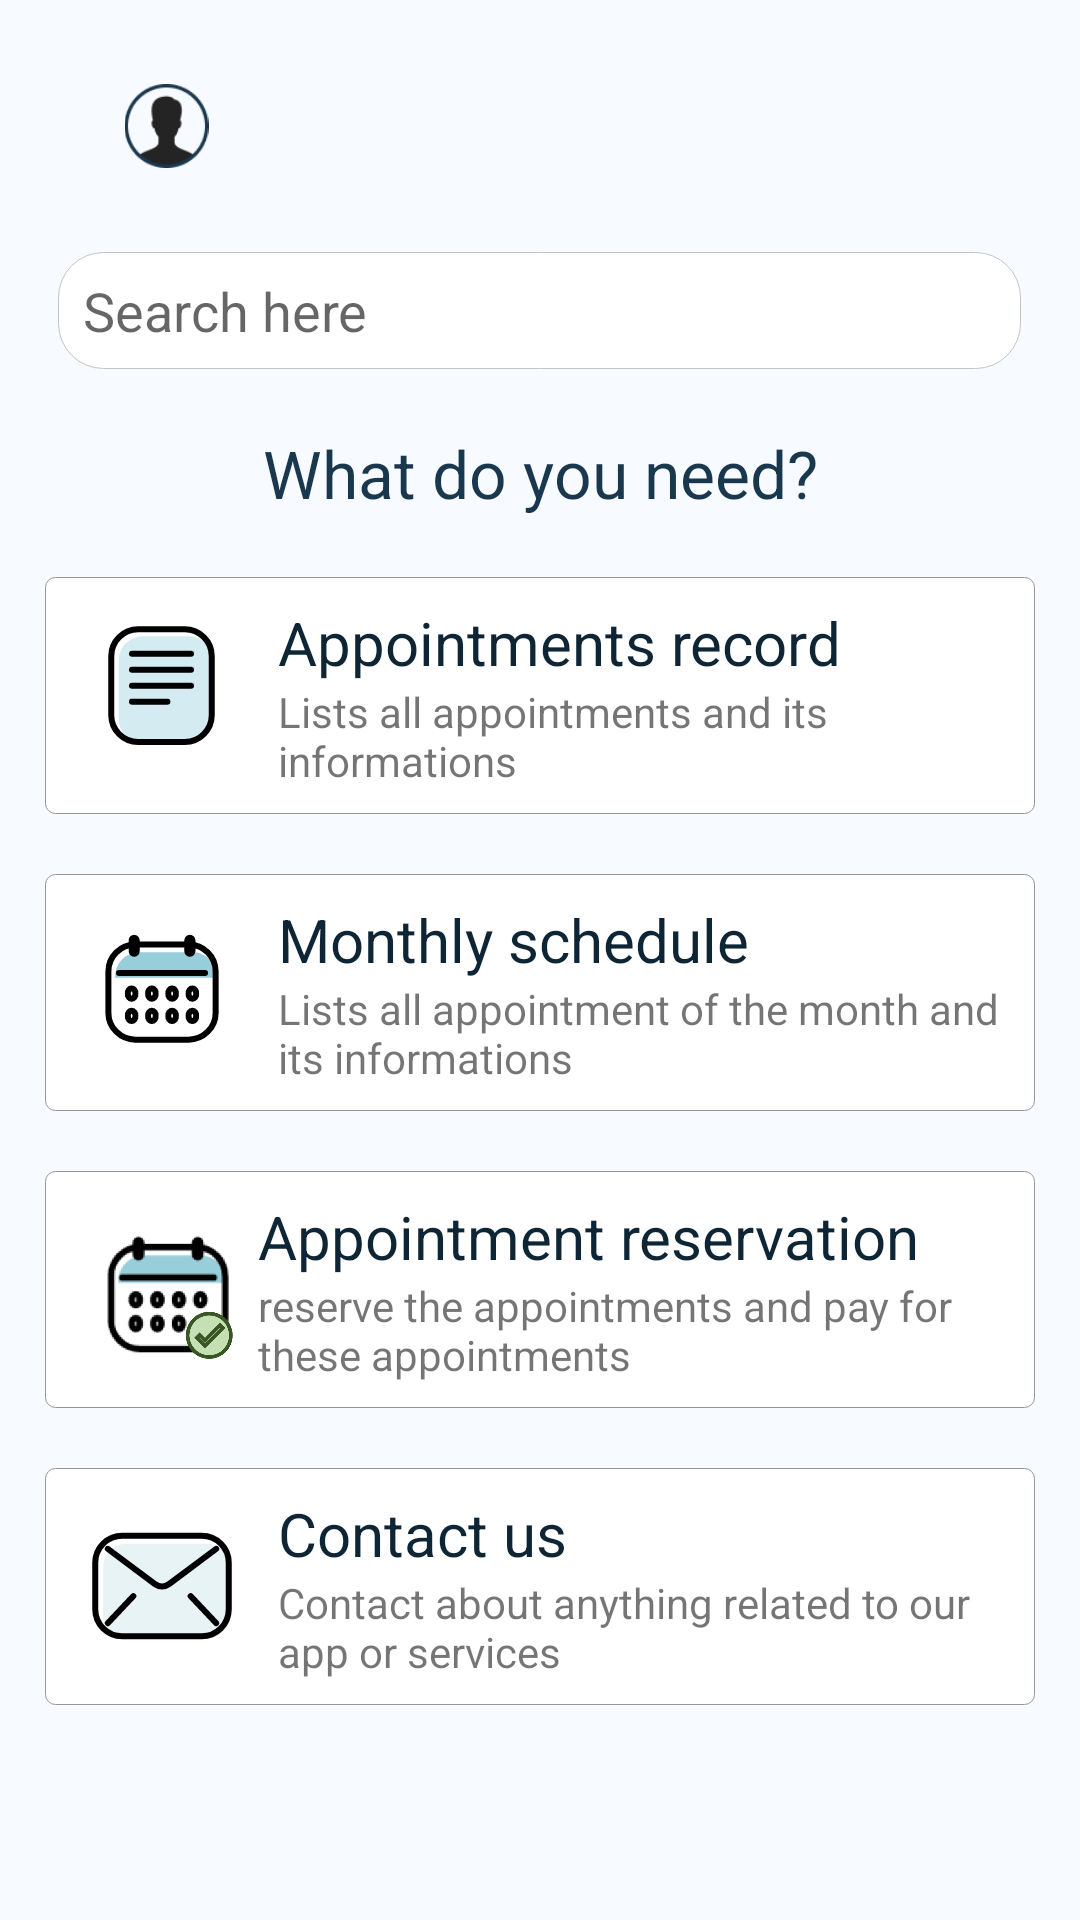

Icons on this 1080px×1920px Android screen, each with the point to tap as point (x, y):
iconcalendar: point (162, 988)
iconmail: point (162, 1586)
iconnote: point (161, 685)
